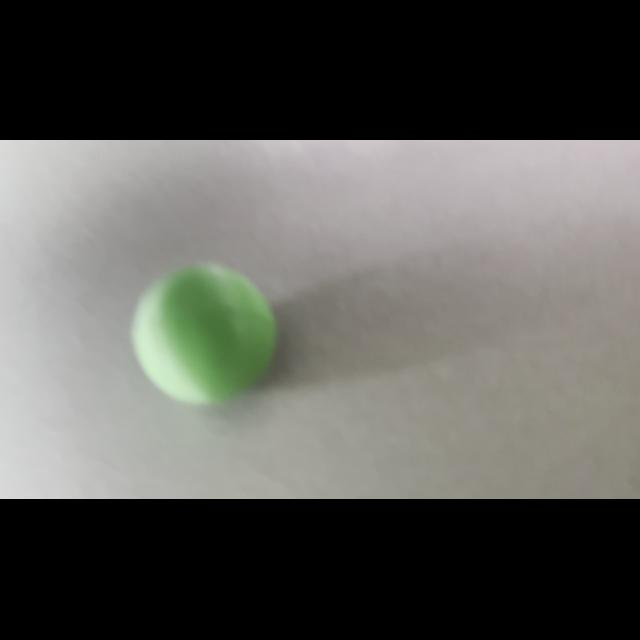objects: (123, 253, 284, 412)
